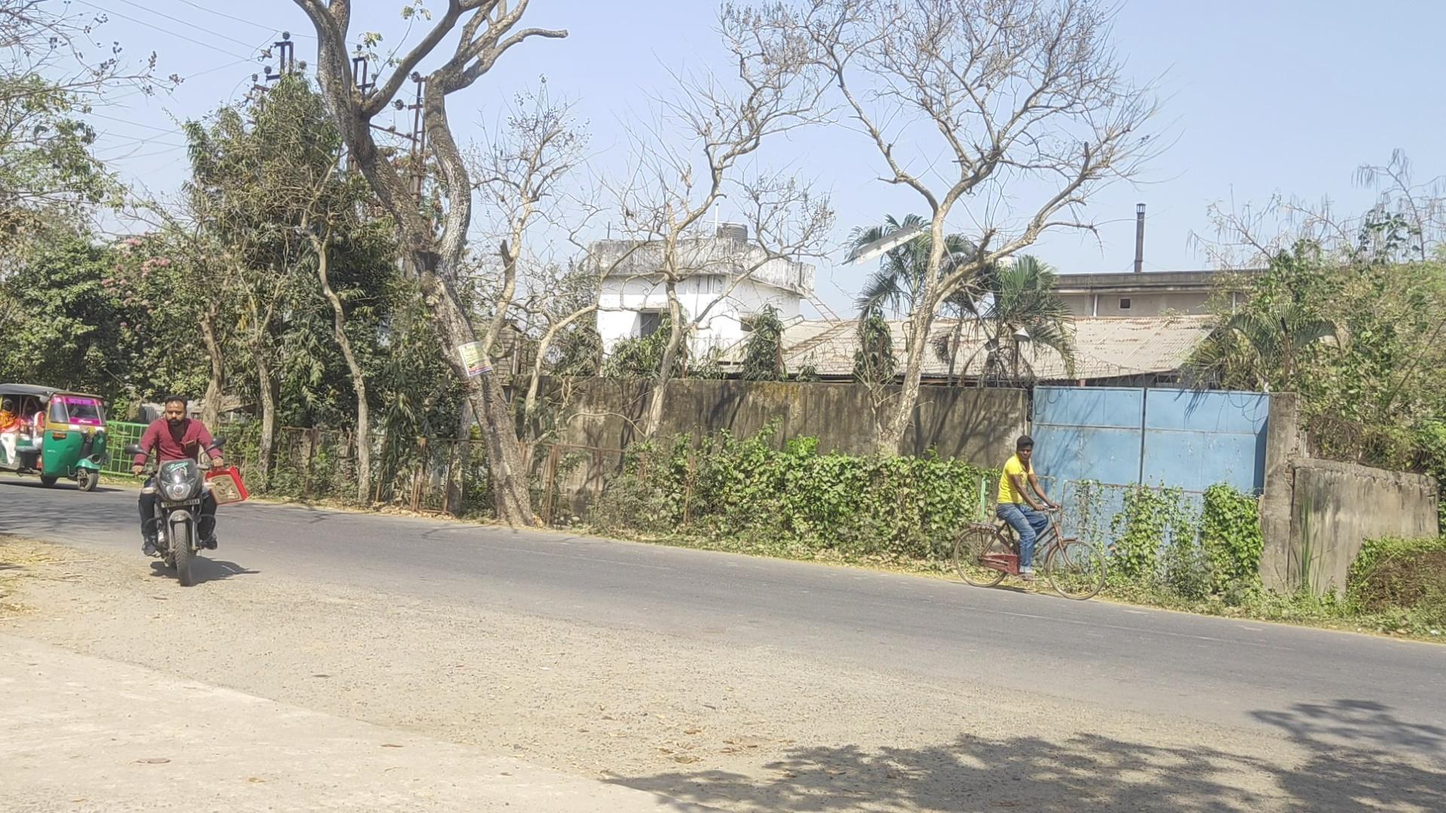Auto: (1, 383, 110, 492)
bike: (953, 435, 1106, 601), (124, 395, 227, 586)
